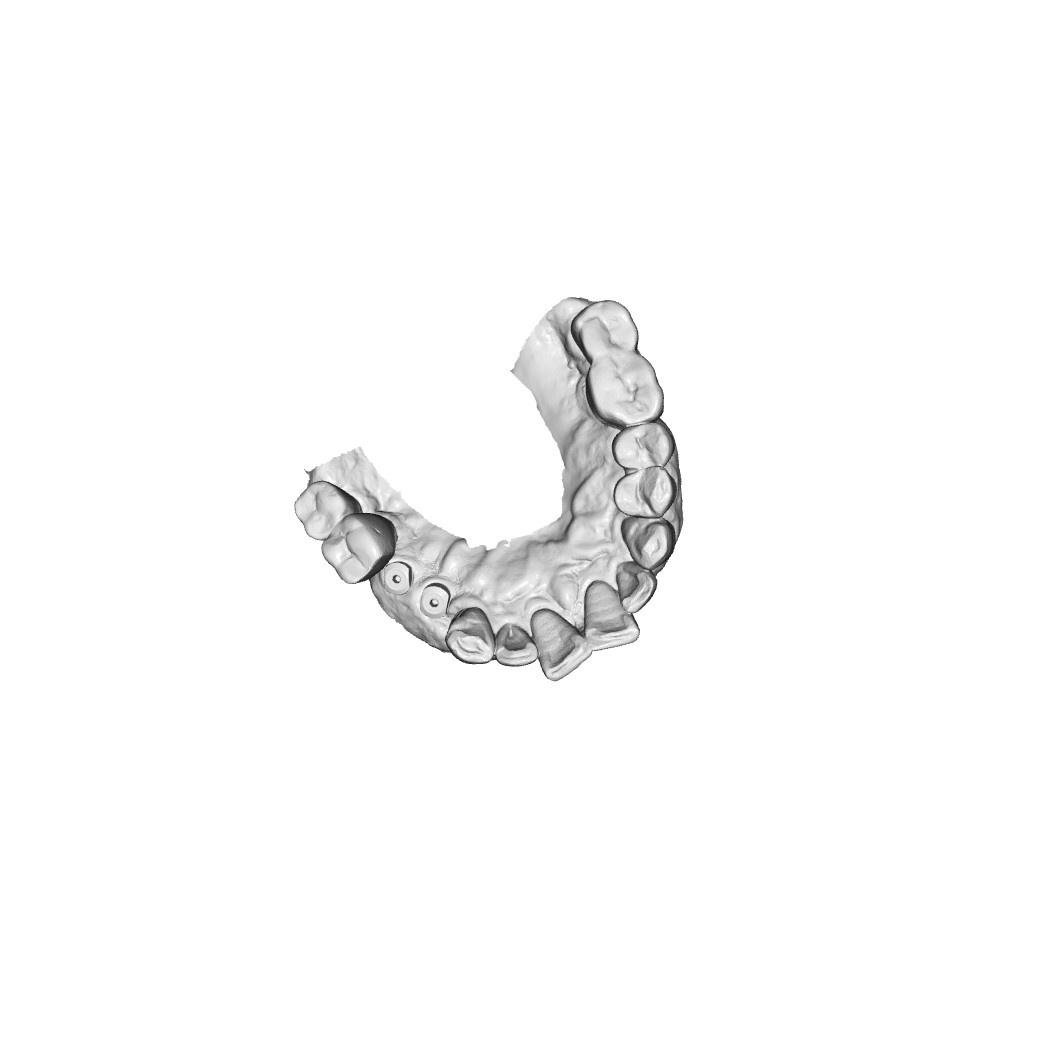canine: (625, 512, 678, 576), (446, 609, 501, 667)
implant: (418, 585, 449, 620), (380, 561, 410, 592)
incisor: (580, 580, 642, 653), (529, 606, 589, 681), (496, 621, 537, 673), (613, 563, 655, 612)
molar: (591, 351, 661, 424), (323, 515, 386, 582), (577, 300, 640, 358), (293, 482, 345, 539)
premolar: (613, 469, 674, 522), (619, 421, 675, 472)
